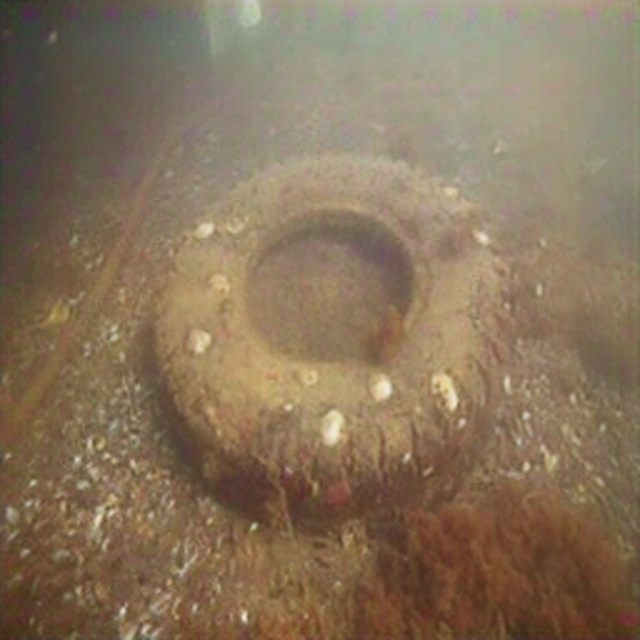mine: (152, 151, 513, 536)
